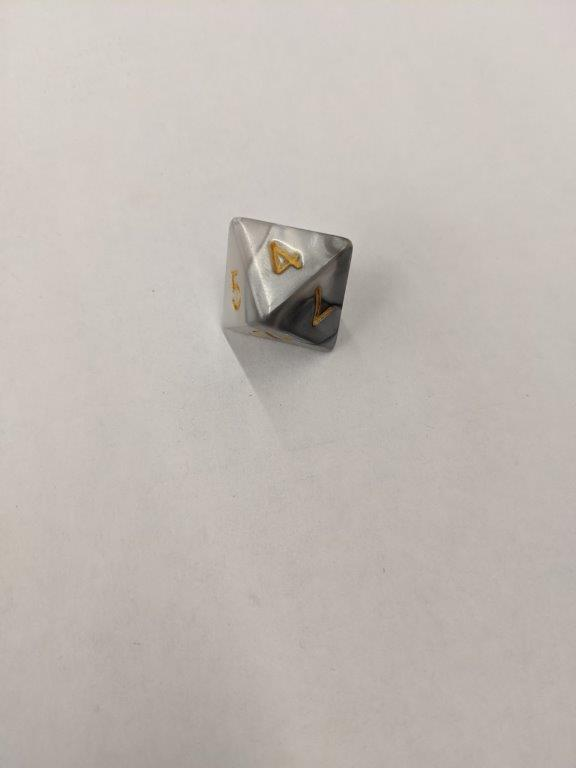d8-4: (217, 213, 358, 357)
